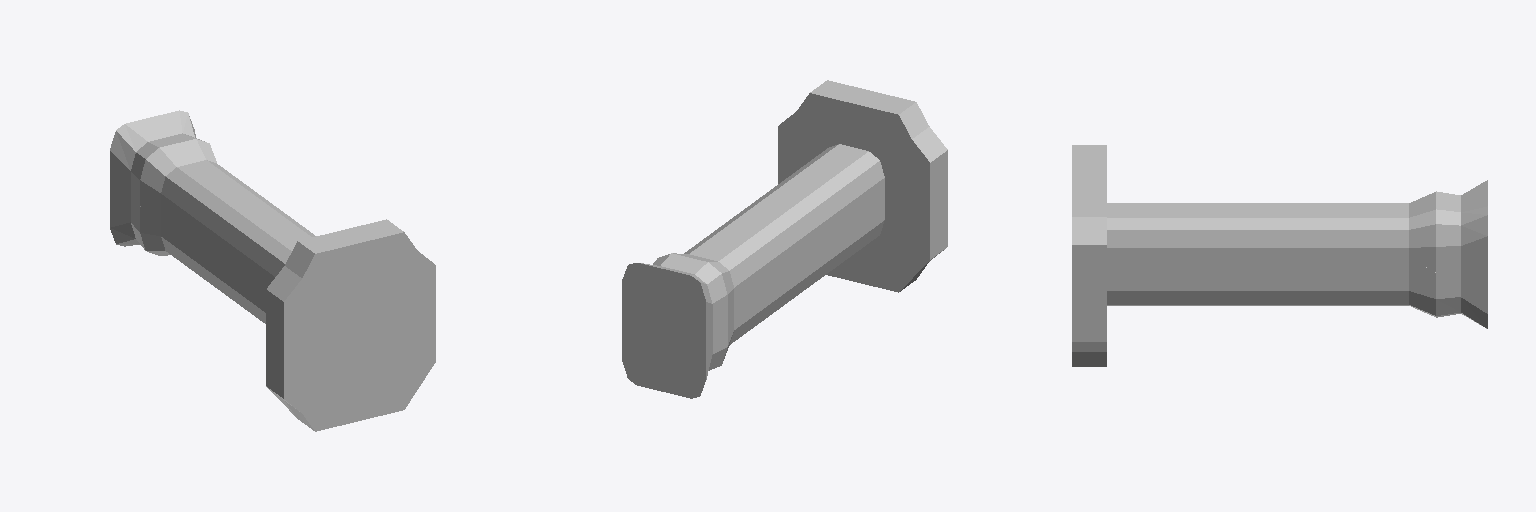
File: YK_Black_Divider_Handle.obj
The picture shows the model from 3 angles: view 1: azimuth 30°, elevation 25°; view 2: azimuth 150°, elevation 25°; view 3: azimuth 270°, elevation 25°; orthographic projection.
Parts seen in each view (by area): view 1: Cube.002_Cube.000, Cube.003_Cube.000; view 2: Cube.003_Cube.000, Cube.002_Cube.000; view 3: Cube.003_Cube.000, Cube.002_Cube.000.
Boxes of the visible parts, <box> form: Cube.002_Cube.000: <box>266,219,435,431</box>; Cube.003_Cube.000: <box>110,110,315,323</box>; Cube.003_Cube.000: <box>622,144,884,398</box>; Cube.002_Cube.000: <box>778,80,947,292</box>; Cube.003_Cube.000: <box>1107,180,1487,328</box>; Cube.002_Cube.000: <box>1072,145,1106,366</box>.
Size of the model in its own units: 2.49 by 2.78 by 5.89.